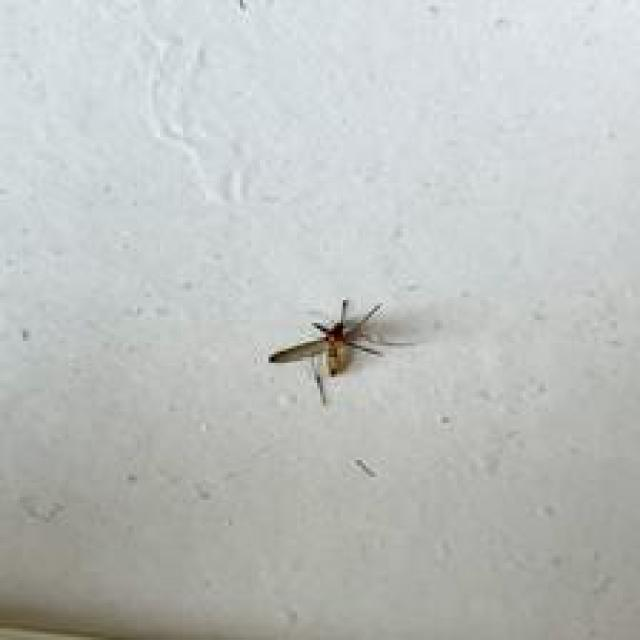Culex: (266, 297, 414, 406)
